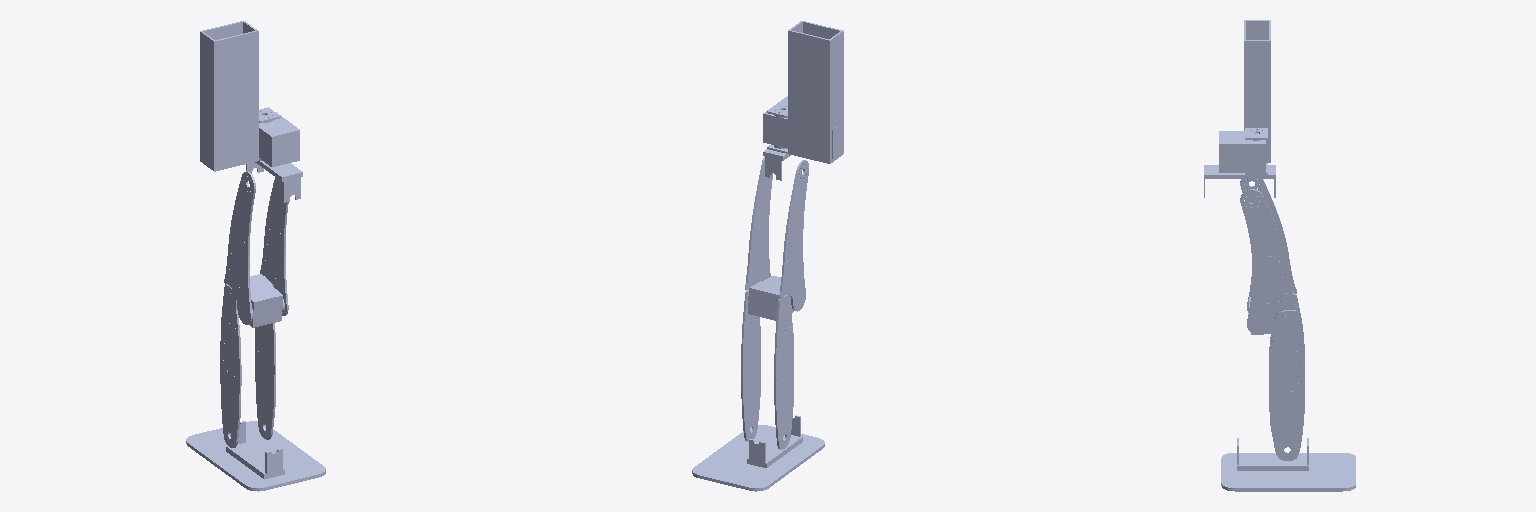
URDF robot description (gummi):
<?xml version="1.0" ?>
<robot name="gummi">
	<link name="base_link"/>
	<joint name="set_worldaxis" type="fixed">
		<origin rpy="1.570796326795 0 0" xyz="0.0 0.0 0.0"/>
		<parent link="base_link"/>
		<child link="base"/>
		<axis xyz="0 0 0"/>
		<limit effort="0" lower="-1" upper="1" velocity="0"/>
	</joint>
	<link name="base">
		<inertial>
			<origin rpy="0.0 0.0 0.0" xyz="0.0 0.0 0.0"/>
			<mass value="0"/>
			<inertia ixx="0" ixy="0" ixz="0" iyy="0" iyz="0" izz="0"/>
		</inertial>
		<visual>
			<origin rpy="0.0 0.0 0.0" xyz="0.0 0.0 0.0"/>
			<geometry>
				<mesh filename="package://scott_right_leg/meshes/base.stl"/>
			</geometry>
			<material name="">
				<color rgba="0.792156862745098 0.819607843137255 0.933333333333333 1"/>
			</material>
		</visual>
		<collision>
			<origin rpy="0.0 0.0 0.0" xyz="0.0 0.0 0.0"/>
			<geometry>
				<mesh filename="package://scott_right_leg/meshes/base.stl"/>
			</geometry>
		</collision>
	</link>
	<link name="link1">
		<inertial>
			<origin rpy="0.0 0.0 0.0" xyz="0.0 0.0 0.0"/>
			<mass value="0"/>
			<inertia ixx="0" ixy="0" ixz="0" iyy="0" iyz="0" izz="0"/>
		</inertial>
		<visual>
			<origin rpy="0.0 0.0 0.0" xyz="0.0 0.0 0.0"/>
			<geometry>
				<mesh filename="package://scott_right_leg/meshes/link1.stl"/>
			</geometry>
			<material name="">
				<color rgba="0.792156862745098 0.819607843137255 0.933333333333333 1"/>
			</material>
		</visual>
		<collision>
			<origin rpy="0.0 0.0 0.0" xyz="0.0 0.0 0.0"/>
			<geometry>
				<mesh filename="package://scott_right_leg/meshes/link1.stl"/>
			</geometry>
		</collision>
	</link>
	<link name="link2">
		<inertial>
			<origin rpy="0.0 0.0 0.0" xyz="0.0 0.0 0.0"/>
			<mass value="0"/>
			<inertia ixx="0" ixy="0" ixz="0" iyy="0" iyz="0" izz="0"/>
		</inertial>
		<visual>
			<origin rpy="0.0 0.0 0.0" xyz="0.0 0.0 0.0"/>
			<geometry>
				<mesh filename="package://scott_right_leg/meshes/link2.stl"/>
			</geometry>
			<material name="">
				<color rgba="0.792156862745098 0.819607843137255 0.933333333333333 1"/>
			</material>
		</visual>
		<collision>
			<origin rpy="0.0 0.0 0.0" xyz="0.0 0.0 0.0"/>
			<geometry>
				<mesh filename="package://scott_right_leg/meshes/link2.stl"/>
			</geometry>
		</collision>
	</link>
	<link name="link3">
		<inertial>
			<origin rpy="0.0 0.0 0.0" xyz="0.0 0.0 0.0"/>
			<mass value="0"/>
			<inertia ixx="0" ixy="0" ixz="0" iyy="0" iyz="0" izz="0"/>
		</inertial>
		<visual>
			<origin rpy="0.0 0.0 0.0" xyz="0.0 0.0 0.0"/>
			<geometry>
				<mesh filename="package://scott_right_leg/meshes/link3.stl"/>
			</geometry>
			<material name="">
				<color rgba="0.792156862745098 0.819607843137255 0.933333333333333 1"/>
			</material>
		</visual>
		<collision>
			<origin rpy="0.0 0.0 0.0" xyz="0.0 0.0 0.0"/>
			<geometry>
				<mesh filename="package://scott_right_leg/meshes/link3.stl"/>
			</geometry>
		</collision>
	</link>
	<link name="link4">
		<inertial>
			<origin rpy="0.0 0.0 0.0" xyz="0.0 0.0 0.0"/>
			<mass value="0"/>
			<inertia ixx="0" ixy="0" ixz="0" iyy="0" iyz="0" izz="0"/>
		</inertial>
		<visual>
			<origin rpy="0.0 0.0 0.0" xyz="0.0 0.0 0.0"/>
			<geometry>
				<mesh filename="package://scott_right_leg/meshes/link4.stl"/>
			</geometry>
			<material name="">
				<color rgba="0.792156862745098 0.819607843137255 0.933333333333333 1"/>
			</material>
		</visual>
		<collision>
			<origin rpy="0.0 0.0 0.0" xyz="0.0 0.0 0.0"/>
			<geometry>
				<mesh filename="package://scott_right_leg/meshes/link4.stl"/>
			</geometry>
		</collision>
	</link>
	<link name="link5">
		<inertial>
			<origin rpy="0.0 0.0 0.0" xyz="0.0 0.0 0.0"/>
			<mass value="0"/>
			<inertia ixx="0" ixy="0" ixz="0" iyy="0" iyz="0" izz="0"/>
		</inertial>
		<visual>
			<origin rpy="0.0 0.0 0.0" xyz="0.0 0.0 0.0"/>
			<geometry>
				<mesh filename="package://scott_right_leg/meshes/link5.stl"/>
			</geometry>
			<material name="">
				<color rgba="0.792156862745098 0.819607843137255 0.933333333333333 1"/>
			</material>
		</visual>
		<collision>
			<origin rpy="0.0 0.0 0.0" xyz="0.0 0.0 0.0"/>
			<geometry>
				<mesh filename="package://scott_right_leg/meshes/link5.stl"/>
			</geometry>
		</collision>
	</link>
	<link name="link6">
		<inertial>
			<origin rpy="0.0 0.0 0.0" xyz="0.0 0.0 0.0"/>
			<mass value="0"/>
			<inertia ixx="0" ixy="0" ixz="0" iyy="0" iyz="0" izz="0"/>
		</inertial>
		<visual>
			<origin rpy="0.0 0.0 0.0" xyz="0.0 0.0 0.0"/>
			<geometry>
				<mesh filename="package://scott_right_leg/meshes/link6.stl"/>
			</geometry>
			<material name="">
				<color rgba="0.792156862745098 0.819607843137255 0.933333333333333 1"/>
			</material>
		</visual>
		<collision>
			<origin rpy="0.0 0.0 0.0" xyz="0.0 0.0 0.0"/>
			<geometry>
				<mesh filename="package://scott_right_leg/meshes/link6.stl"/>
			</geometry>
		</collision>
	</link>
	<link name="link7">
		<inertial>
			<origin rpy="0.0 0.0 0.0" xyz="0.0 0.0 0.0"/>
			<mass value="0"/>
			<inertia ixx="0" ixy="0" ixz="0" iyy="0" iyz="0" izz="0"/>
		</inertial>
		<visual>
			<origin rpy="0.0 0.0 0.0" xyz="0.0 0.0 0.0"/>
			<geometry>
				<mesh filename="package://scott_right_leg/meshes/link7.stl"/>
			</geometry>
			<material name="">
				<color rgba="0.792156862745098 0.819607843137255 0.933333333333333 1"/>
			</material>
		</visual>
		<collision>
			<origin rpy="0.0 0.0 0.0" xyz="0.0 0.0 0.0"/>
			<geometry>
				<mesh filename="package://scott_right_leg/meshes/link7.stl"/>
			</geometry>
		</collision>
	</link>


	
	<joint name="joint0" type="fixed">
		<origin rpy="0.0 0.0 0.0" xyz="0.0356 0.5200 -0.0130"/>
		<parent link="base"/>
		<child link="link1"/>
		<axis xyz="0 0 0"/>
		<limit effort="0" lower="-1" upper="1" velocity="0"/>
	</joint>
	<joint name="joint1" type="continuous">
		<origin rpy="0.0 0.0 0.0" xyz="0.0205 -0.0275 0.0135"/>
		<parent link="link1"/>
		<child link="link2"/>
		<axis xyz="0.0 -1.0 0.0"/>
		<limit effort="0" lower="-1" upper="1" velocity="0"/>
	</joint>
	<joint name="joint2" type="continuous">
		<origin rpy="0.0 0.0 0.0" xyz="0.0 -0.0390 -0.0280"/>
		<parent link="link2"/>
		<child link="link3"/>
		<axis xyz="0.0 0.0 1.0"/>
		<limit effort="0" lower="-1" upper="1" velocity="0"/>
	</joint>
	<joint name="joint3" type="continuous">
		<origin rpy="0.0 0.0 0.0" xyz="-0.0305 0.0 0.035"/>
		<parent link="link3"/>
		<child link="link4"/>
		<axis xyz="-1.0 0.0 0.0"/>
		<limit effort="0" lower="-1" upper="1" velocity="0"/>
	</joint>
	<joint name="joint4" type="continuous">
		<origin rpy="0.0 0.0 0.0" xyz="0.0 -0.2011 -0.0106"/>
		<parent link="link4"/>
		<child link="link5"/>
		<axis xyz="1.0 0.0 0.0"/>
		<limit effort="0" lower="-1" upper="1" velocity="0"/>
	</joint>
	<joint name="joint5" type="continuous">
		<origin rpy="0.0 0.0 0.0" xyz="0.0010 -0.2074 -0.0419"/>
		<parent link="link5"/>
		<child link="link6"/>
		<axis xyz="1.0 0.0 0.0"/>
		<limit effort="0" lower="-1" upper="1" velocity="0"/>
	</joint>
	<joint name="joint6" type="continuous">
		<origin rpy="0.0 0.0 0.0" xyz="0.0295 0.0 -0.0320"/>
		<parent link="link6"/>
		<child link="link7"/>
		<axis xyz="0.0 0.0 -1.0"/>
		<limit effort="0" lower="-1" upper="1" velocity="0"/>
	</joint>
</robot>

--- Render facts (derived) ---
The picture shows the robot from 3 angles, left to right: view 1: azimuth 30°, elevation 25°; view 2: azimuth 150°, elevation 25°; view 3: azimuth 270°, elevation 25°; orthographic projection.
Robot: gummi — 9 links, 8 joints (6 continuous, 2 fixed); root link base_link; default pose: every joint at zero.
Visible links, largest first — view 1: base, link5, link7, link4, link1, link2; view 2: base, link5, link7, link4, link1, link2; view 3: link4, link7, link5, base, link1, link2.
Link boxes in pixels (x1,y1,x2,y2): base: [200, 21, 258, 171]; link5: [220, 274, 284, 447]; link7: [186, 421, 325, 491]; link4: [224, 171, 288, 324]; link1: [259, 107, 299, 166]; link2: [246, 158, 302, 202]; base: [788, 21, 843, 163]; link5: [741, 276, 800, 449]; link7: [692, 415, 824, 491]; link4: [745, 156, 808, 311]; link1: [763, 96, 787, 148]; link2: [763, 145, 790, 180]; link4: [1240, 179, 1296, 334]; link7: [1221, 438, 1355, 491]; link5: [1249, 294, 1304, 460]; base: [1244, 20, 1270, 162]; link1: [1219, 128, 1267, 172]; link2: [1204, 163, 1275, 197].
Bounding box of the posed robot: 0.1687 × 0.2265 × 0.6915 m (x, y, z).
6 mesh visuals loaded from 8 distinct referenced files (6 binary STL); not drawn: 2 (reference not matched to a file when rendering).
